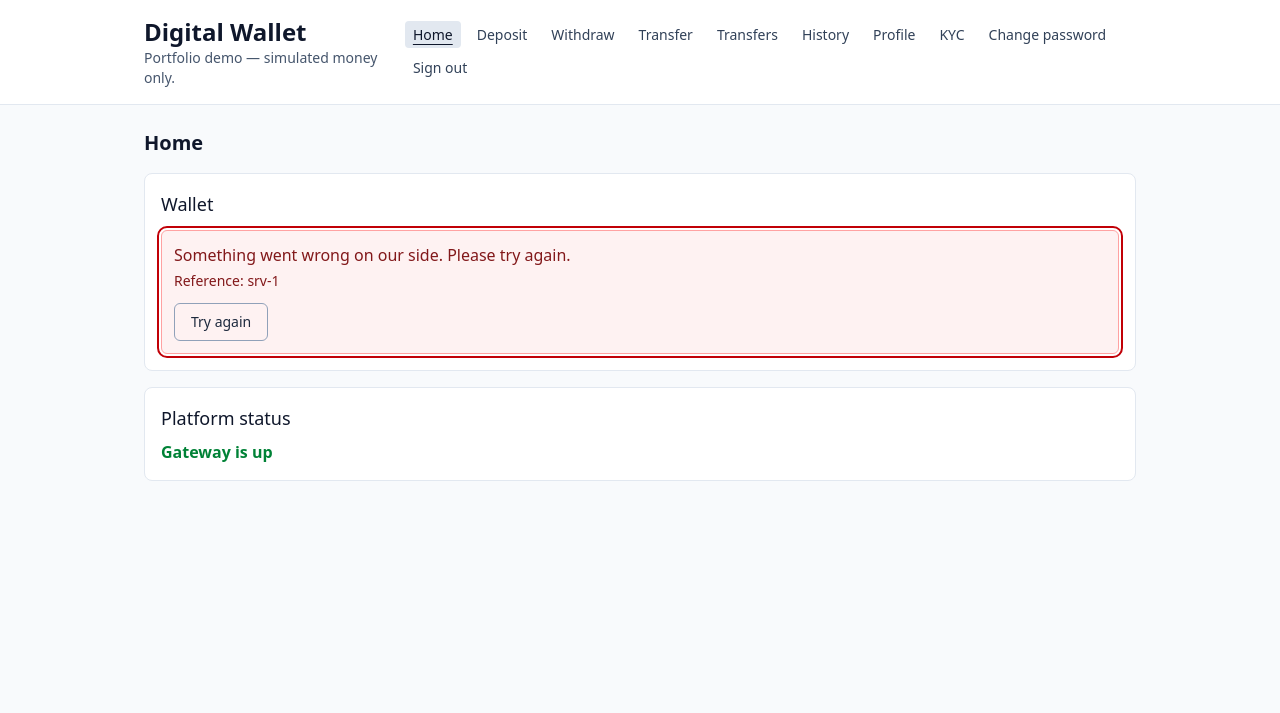
Scenario: WalletDashboard › shows a load error with its reference and loads again on Try again
This screenshot has width=1280, height=713.
Expected: the message "Something went wrong on our side. Please try again. Reference: srv-1 Try again" is shown, [161,230,1119,354]
Click the button "Try again" at [221, 322], box [174,303,268,341]
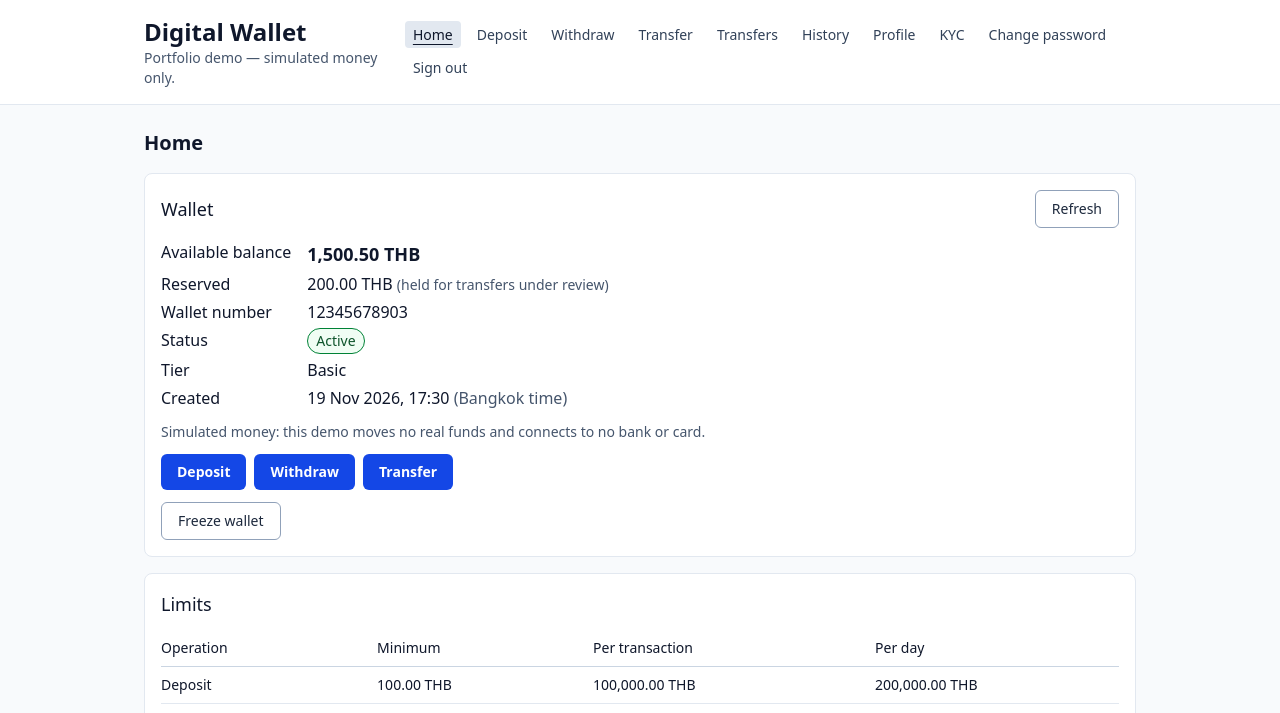
Expected: the text "12345678903" is shown, [307,301,408,323]
